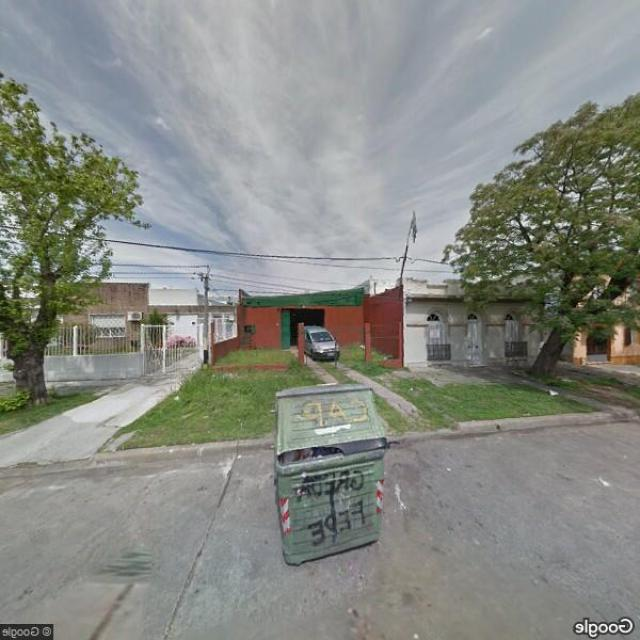garbage container: (264, 379, 394, 577)
